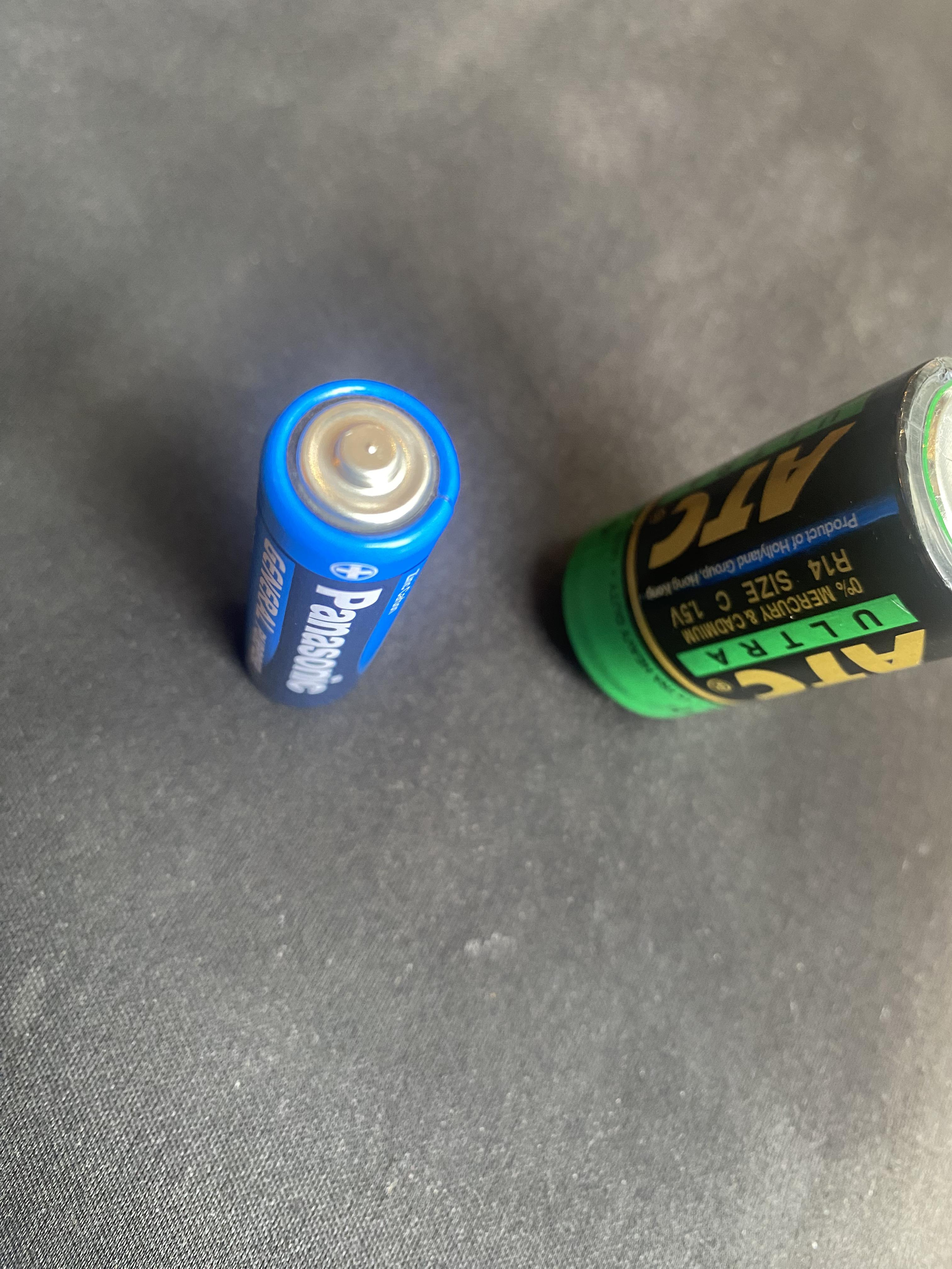AA: (241, 376, 461, 708)
